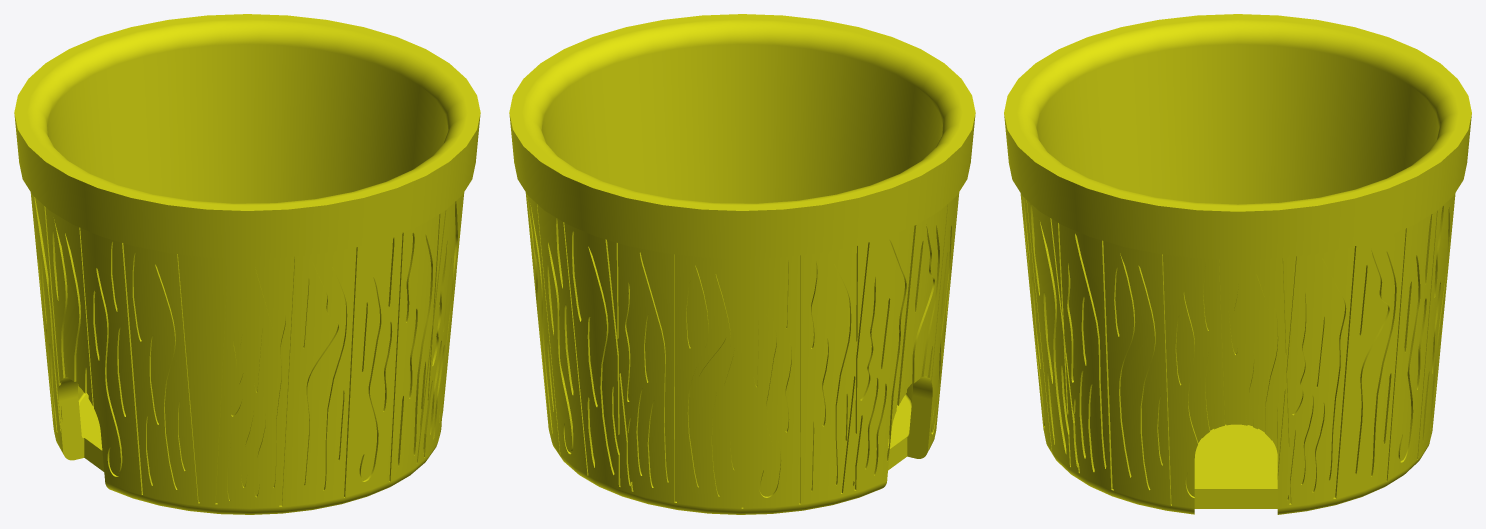
Rendered from PART 10 BUCKET.fbx.
3 views of the same model, side by side, from view 1: azimuth 30°, elevation 25°; view 2: azimuth 150°, elevation 25°; view 3: azimuth 270°, elevation 25° (orthographic).
Parts seen in each view (by area): view 1: PART 10 BUCKET; view 2: PART 10 BUCKET; view 3: PART 10 BUCKET.
Part boxes in pixels (left/top/right/bottom): PART 10 BUCKET: left=14, top=14, right=480, bottom=514; PART 10 BUCKET: left=509, top=14, right=975, bottom=514; PART 10 BUCKET: left=1004, top=14, right=1471, bottom=514.
Bounding box in the file's own units: 2.69 × 2.1 × 2.69.
